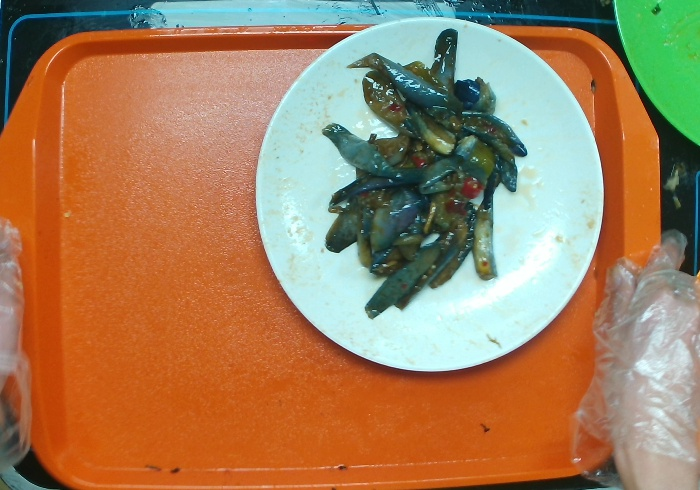HZYJPL-Bai_Se_Yuan_Pan: (253, 14, 605, 373)
